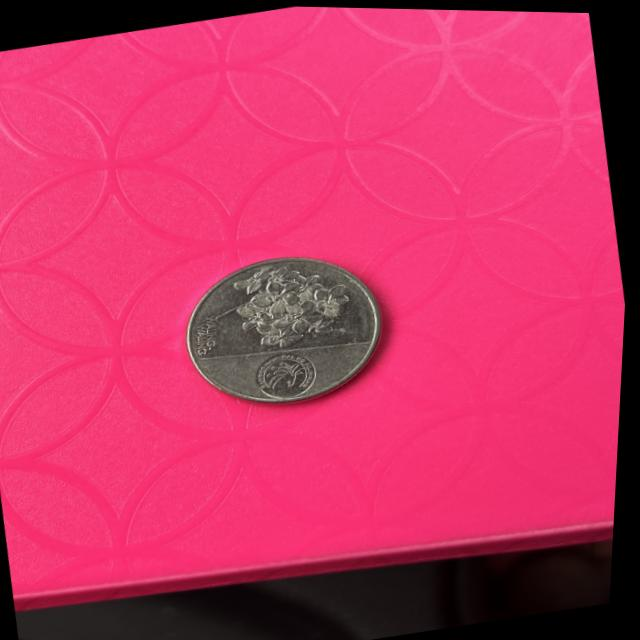1_New_Back: (228, 257, 355, 353)
